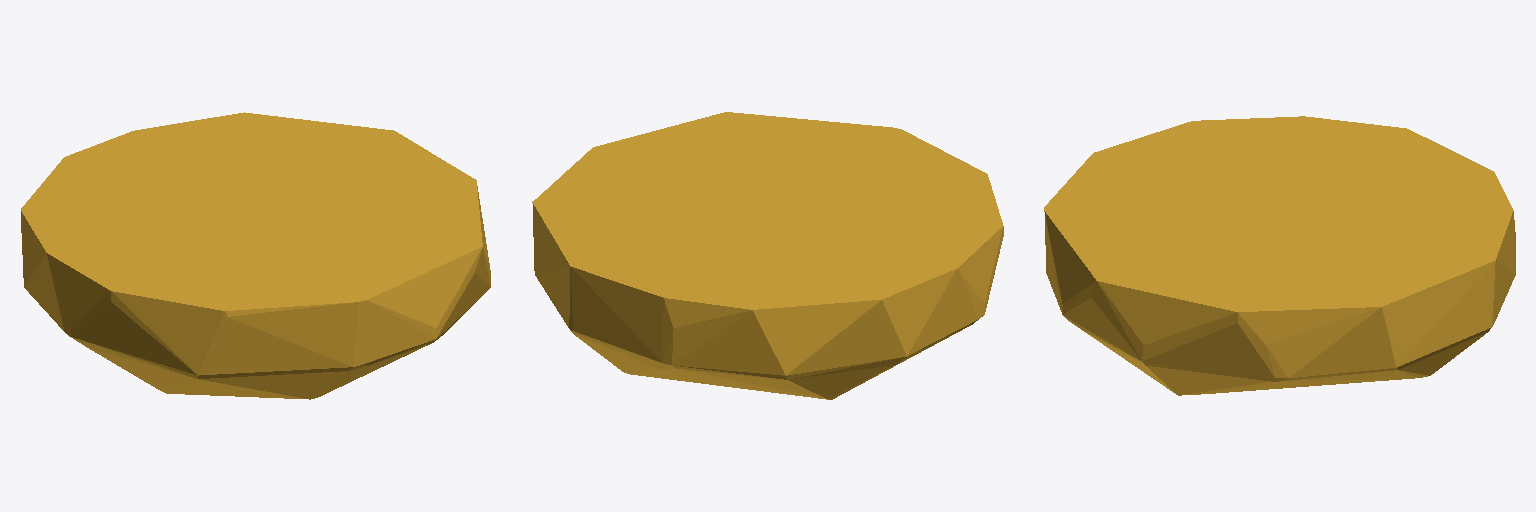
URDF robot description (pancake.urdf):
<?xml version="0.0" ?>
<robot name="pancake.urdf">
  <link name="base" />
  <link name="pancake">
    <visual>
      <origin rpy="0 0 0" xyz="0 0 0"/>
      <geometry>
<!--        <mesh filename="pie6_v.obj" scale="1 1 1"/>-->
        <mesh filename="pie3_v.obj" scale="0.6 0.6 2"/>
<!--        <mesh filename="pancake_v.obj" scale="0.001 0.001 0.0015"/>-->
      </geometry>
      <material name="pancake_yellow">
        <color rgba="0.86 0.68 0.25 1.0"/>
      </material>
    </visual>
    <inertial>
      <origin rpy="0 0 0" xyz="0 0 0"/>
      <mass value="0.1"/>
<!--      <inertia ixx="0.000045" ixy="0" ixz="0" iyy="0.000045" iyz="0" izz="0.00009"/>-->
      <inertia ixx="0.0009" ixy="0" ixz="0" iyy="0.0009" iyz="0" izz="0.0018"/>
    </inertial>
    <collision>
      <origin rpy="0 0 0" xyz="0 0 0"/>
      <geometry>
<!--  	    <mesh filename="pie6_v.obj" scale="1 1 1"/>-->
  	    <mesh filename="pie3_v.obj" scale="0.6 0.6 2"/>
<!--  	    <mesh filename="pancake_v.obj" scale="0.001 0.001 0.0015"/>-->
      </geometry>
    </collision>
  </link>
      <joint name="pancake_joint" type="fixed">
        <origin xyz="0 0 0" rpy="0 0 0" />
        <parent link="base" />
        <child link="pancake" />
    </joint>
</robot>

--- What the picture shows (computed from the rendered views, not written in the file) ---
The picture shows the robot from 3 angles, left to right: view 1: azimuth 30°, elevation 25°; view 2: azimuth 150°, elevation 25°; view 3: azimuth 270°, elevation 25°; orthographic projection.
Robot: pancake.urdf — 2 links, 1 joints (1 fixed); root link base; default pose: every joint at zero.
Visible links, largest first — view 1: pancake; view 2: pancake; view 3: pancake.
Link boxes in pixels (x1,y1,x2,y2): pancake: (21,112,490,399); pancake: (532,112,1003,399); pancake: (1044,116,1515,395).
Bounding box of the posed robot: 0.0726 × 0.0731 × 0.0215 m (x, y, z).
1 mesh visuals loaded from 1 distinct referenced files (1 OBJ).
